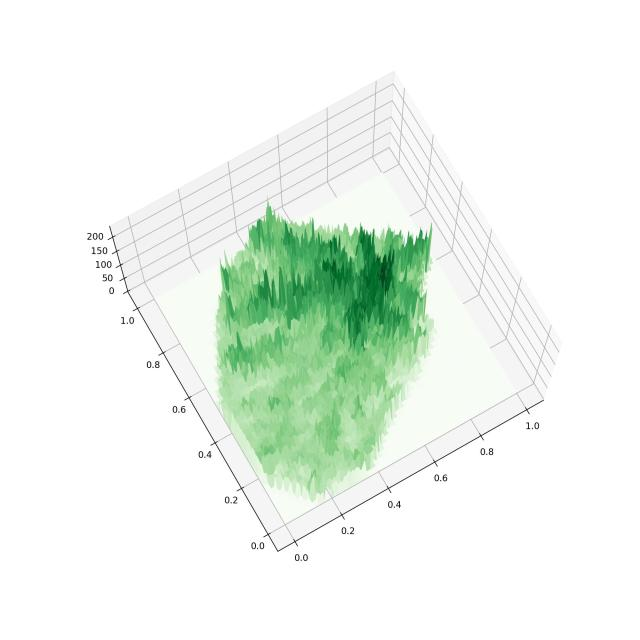spruce: (47, 38, 561, 614)
